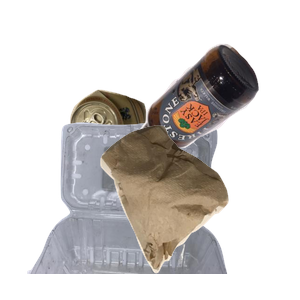glass: (120, 41, 300, 196)
metal: (67, 87, 206, 234)
plastic: (25, 120, 245, 300)
trash: (98, 123, 300, 300)
